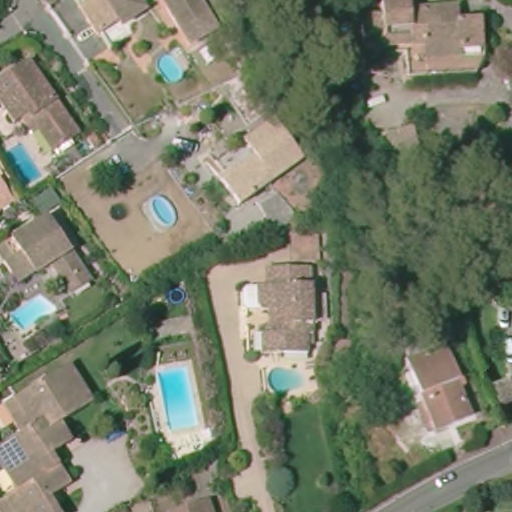pool: (155, 362, 207, 438), (5, 294, 63, 336), (265, 361, 313, 399), (6, 139, 43, 187), (143, 192, 183, 232), (151, 50, 187, 87)
